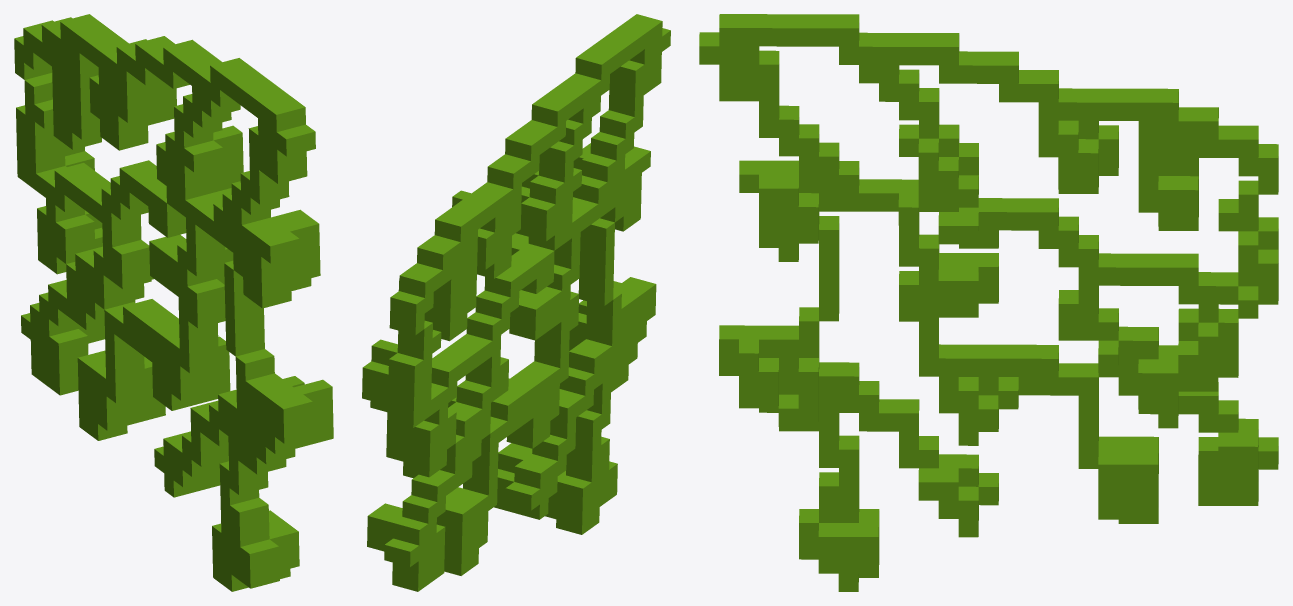
File: vines.fbx
3 renders of one model, left to right at view 1: azimuth 30°, elevation 25°; view 2: azimuth 150°, elevation 25°; view 3: azimuth 270°, elevation 25°, orthographic. The views are drawn at different scales.
Parts seen in each view (by area): view 1: Layer.072; view 2: Layer.072; view 3: Layer.072.
Boxes of the visible parts, x1,y1,x2,y2 form: Layer.072: (14, 14, 333, 591); Layer.072: (362, 14, 670, 591); Layer.072: (699, 14, 1278, 591).
Bounding box in the file's own units: 155 × 1072 × 1035.
Materials: 1 (1 with a texture image).
